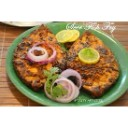seerfish: (13, 23, 65, 93), (67, 30, 121, 96)
